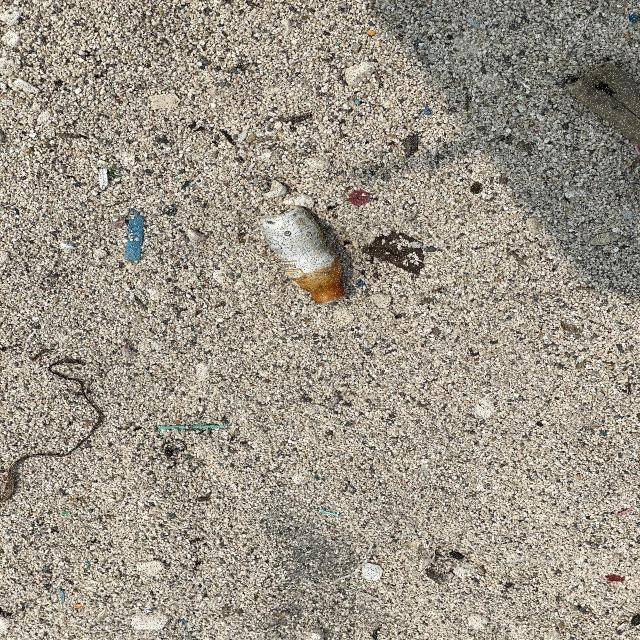plastic_waste: (259, 206, 349, 306)
